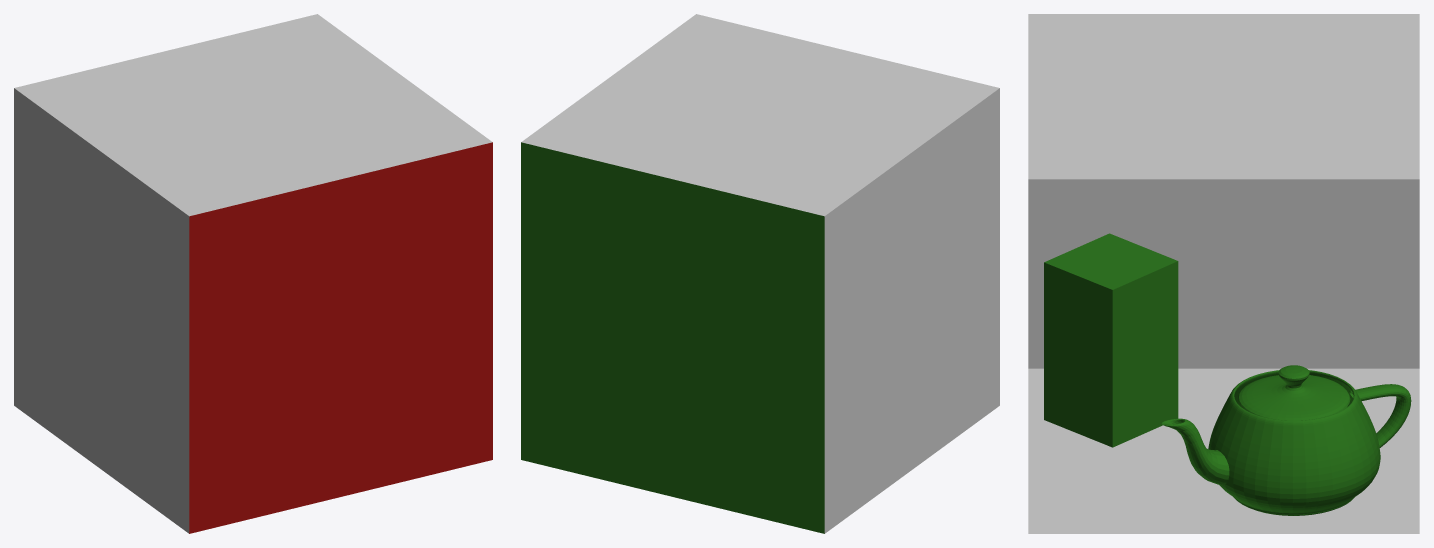
3 views of the same model, side by side, from view 1: azimuth 30°, elevation 25°; view 2: azimuth 150°, elevation 25°; view 3: azimuth 270°, elevation 25° (orthographic). The views are drawn at different scales.
Visible parts, largest first — view 1: Cube.001; view 2: Cube.001; view 3: Cube.001, Cube.002, teapot.
Boxes of the visible parts, x1,y1,x2,y2 form: Cube.001: (14,14,492,533); Cube.001: (521,14,999,533); Cube.001: (1028,14,1419,533); Cube.002: (1044,233,1178,447); teapot: (1161,365,1411,515).
Bounding box in the file's own units: 4.5 × 4.5 × 4.5.
